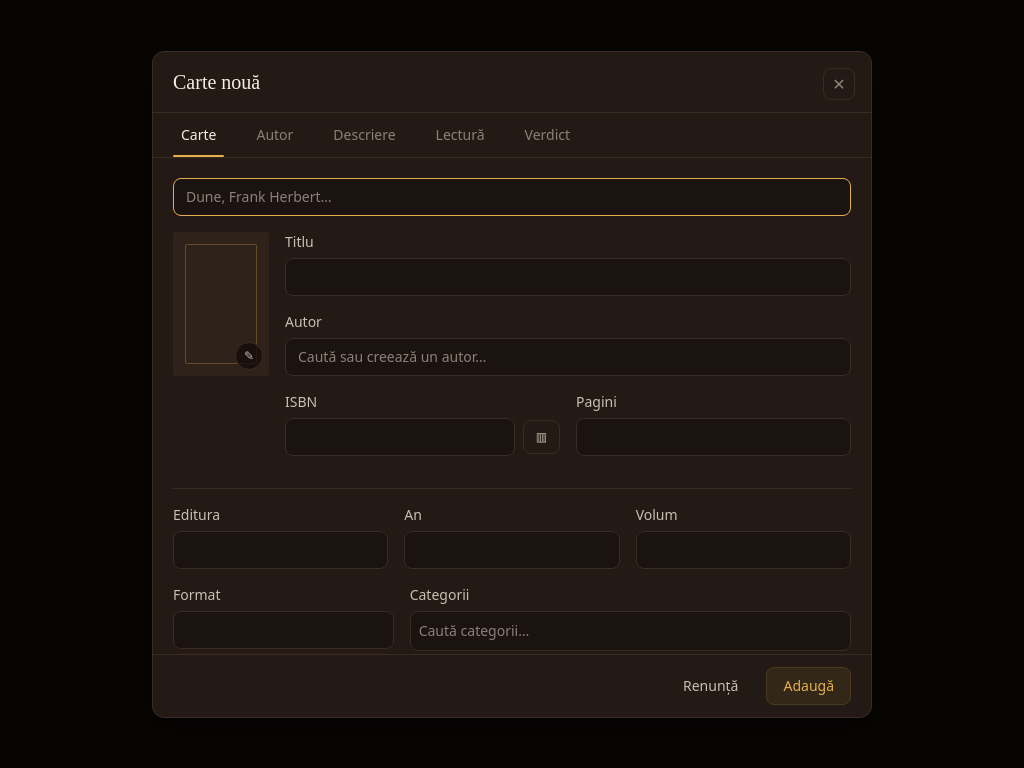
BookFormDialog — the author tab (§D51) › asks the server for matches rather than filtering the loaded books
Click the tab "Autor": coordinates (275, 134) [248, 112, 301, 156]
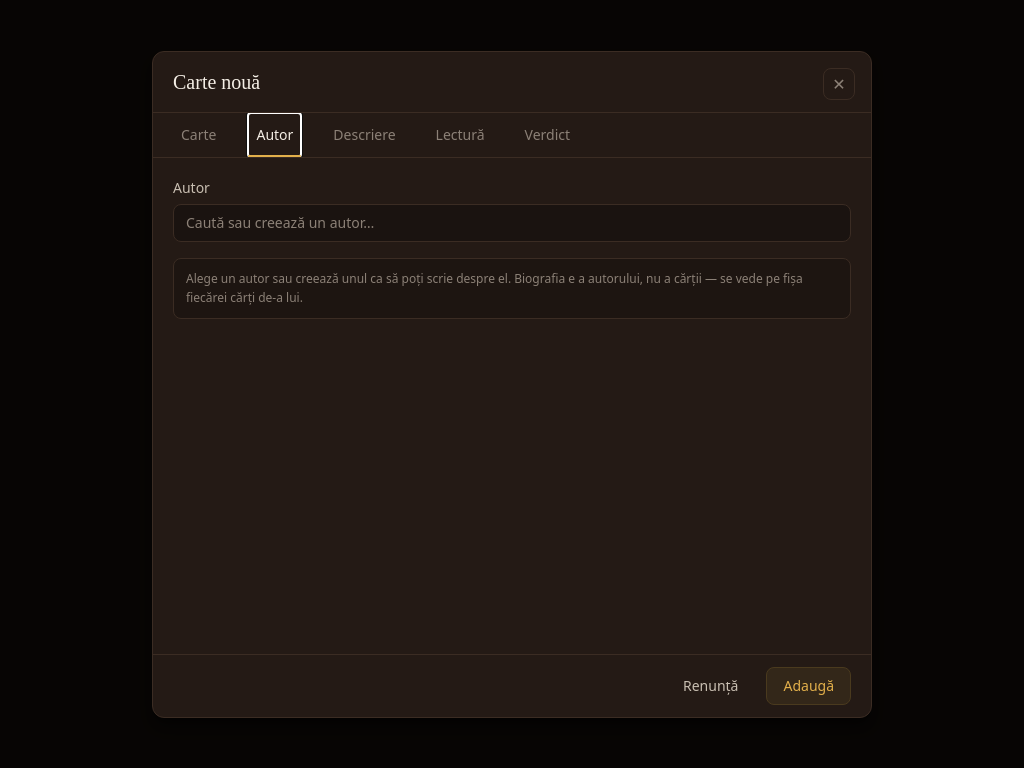
In the field labelled "Autor": coordinates (512, 222) [173, 204, 851, 242], type "herb"
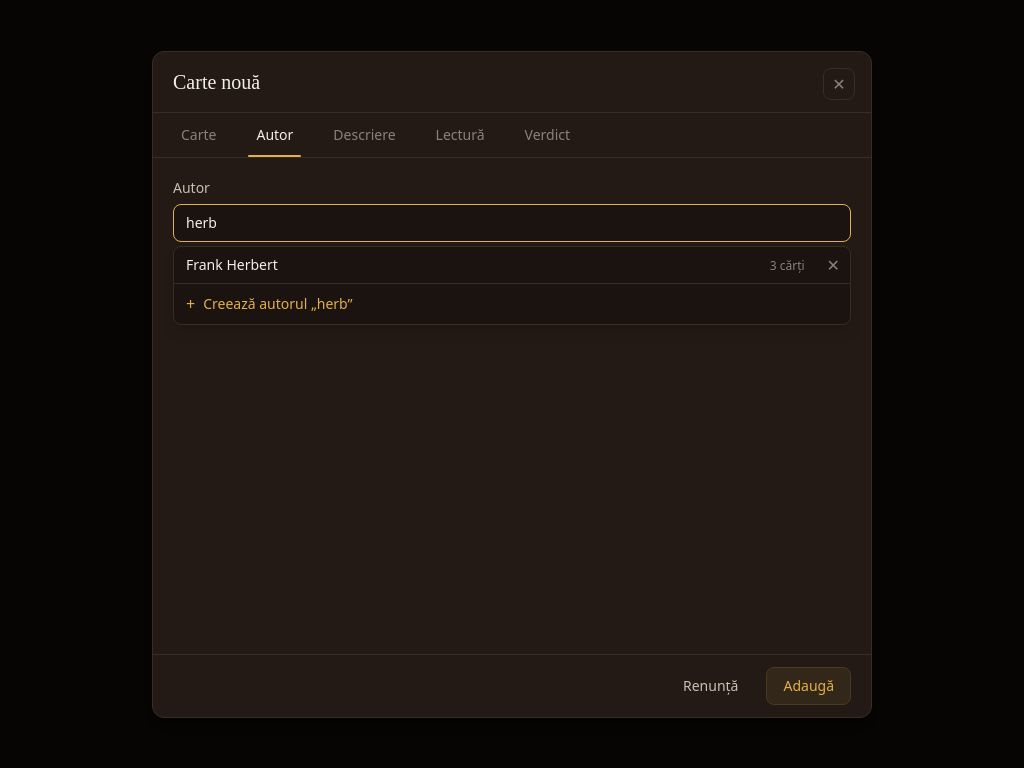
Now the text "Frank Herbert" is shown, box [186, 254, 278, 274]
